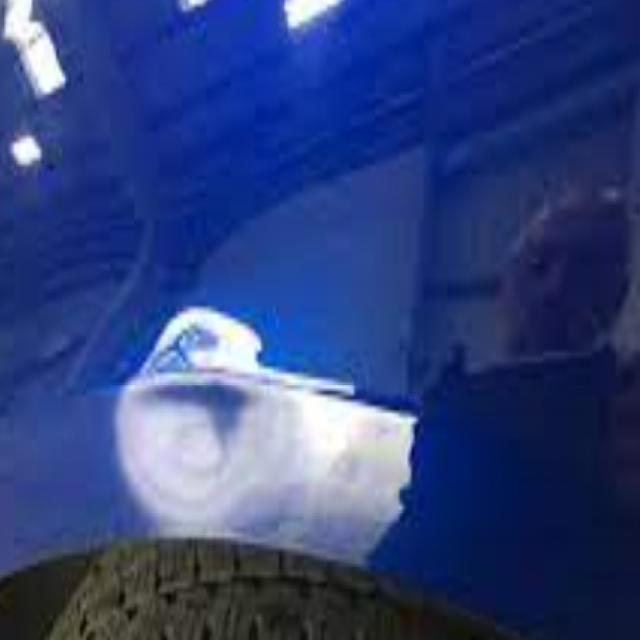dents: (98, 324, 290, 533)
